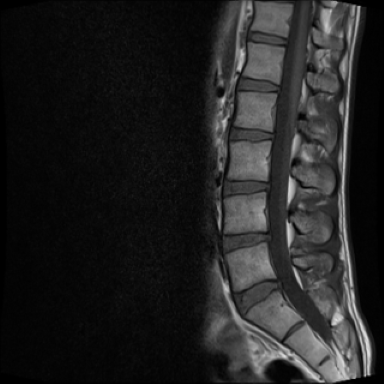Degenerative Disc Disease (DDD): (213, 223, 274, 260)
Normal IVD: (231, 268, 282, 320), (215, 173, 270, 201), (221, 123, 277, 147), (232, 73, 283, 98), (243, 28, 292, 50)
